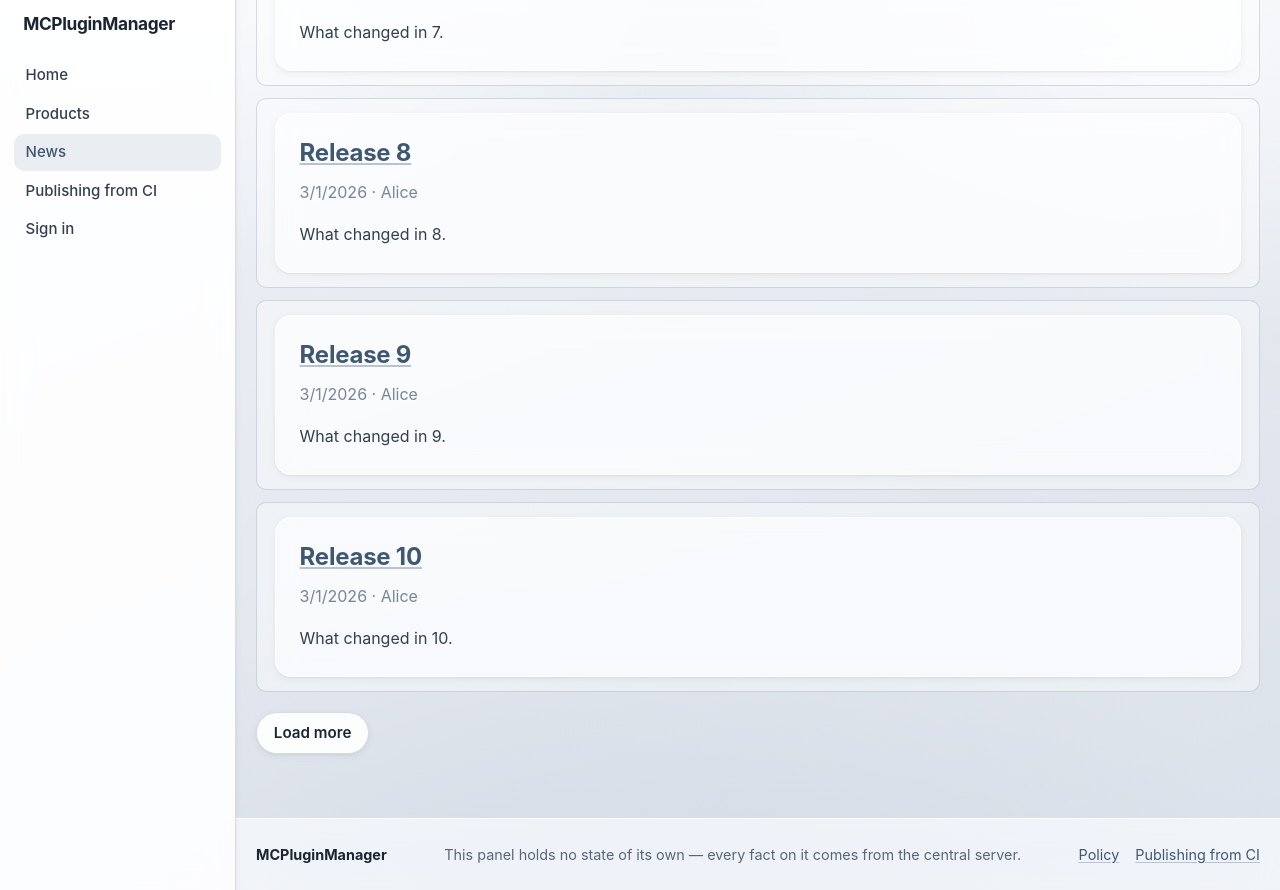
Scenario: the news list › asks for ten and loads the next ten on demand
(page scrolled)
Click the button "Load more" at (313, 733), box 256,712 -> 369,754
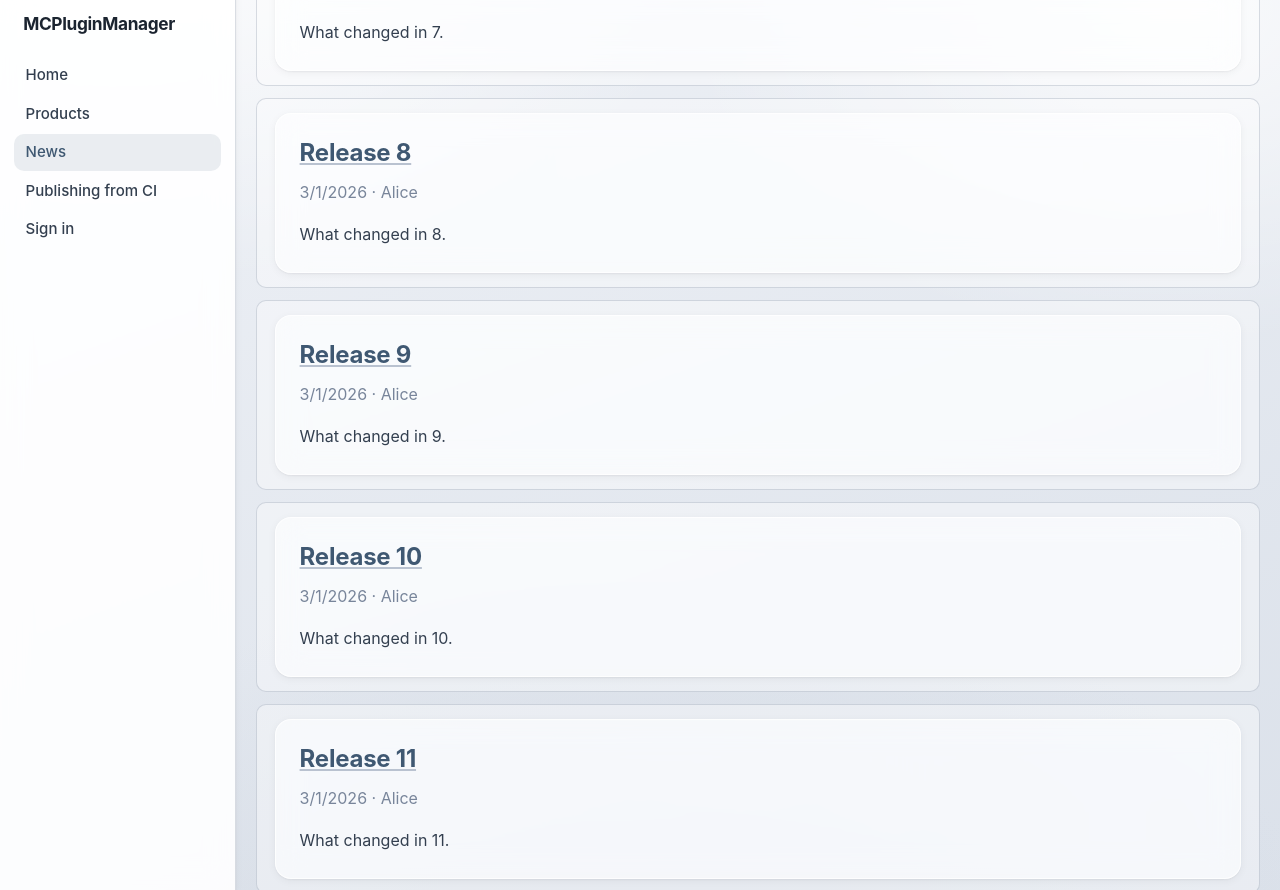
Now the link "Release 11" is shown, box 300,744 -> 416,773
Now the button "Load more" is gone
